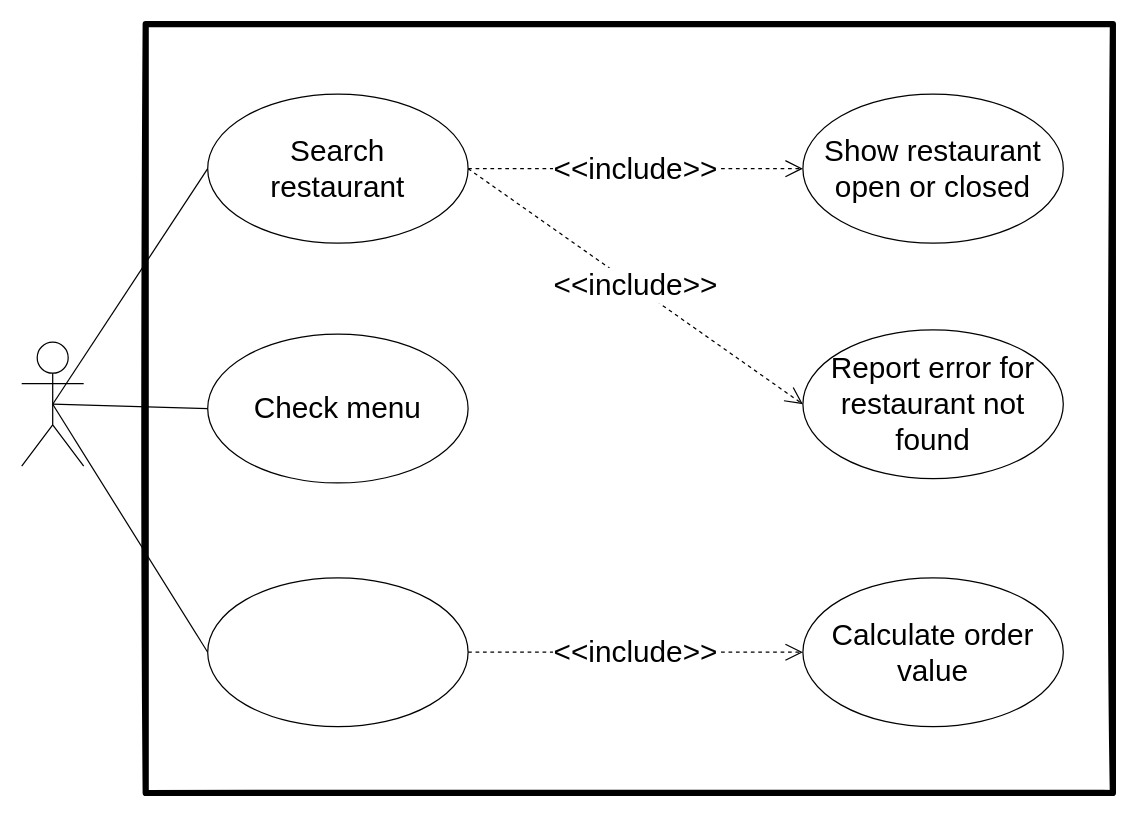
The diagram is 1137 pixels wide and 817 high, and some of its shapes have lost their labels. The box of each missing label's shape, as (x1, y1, x2, y2) in pixels:
Order from menu: (206, 577, 468, 727)
User: (20, 341, 84, 466)
